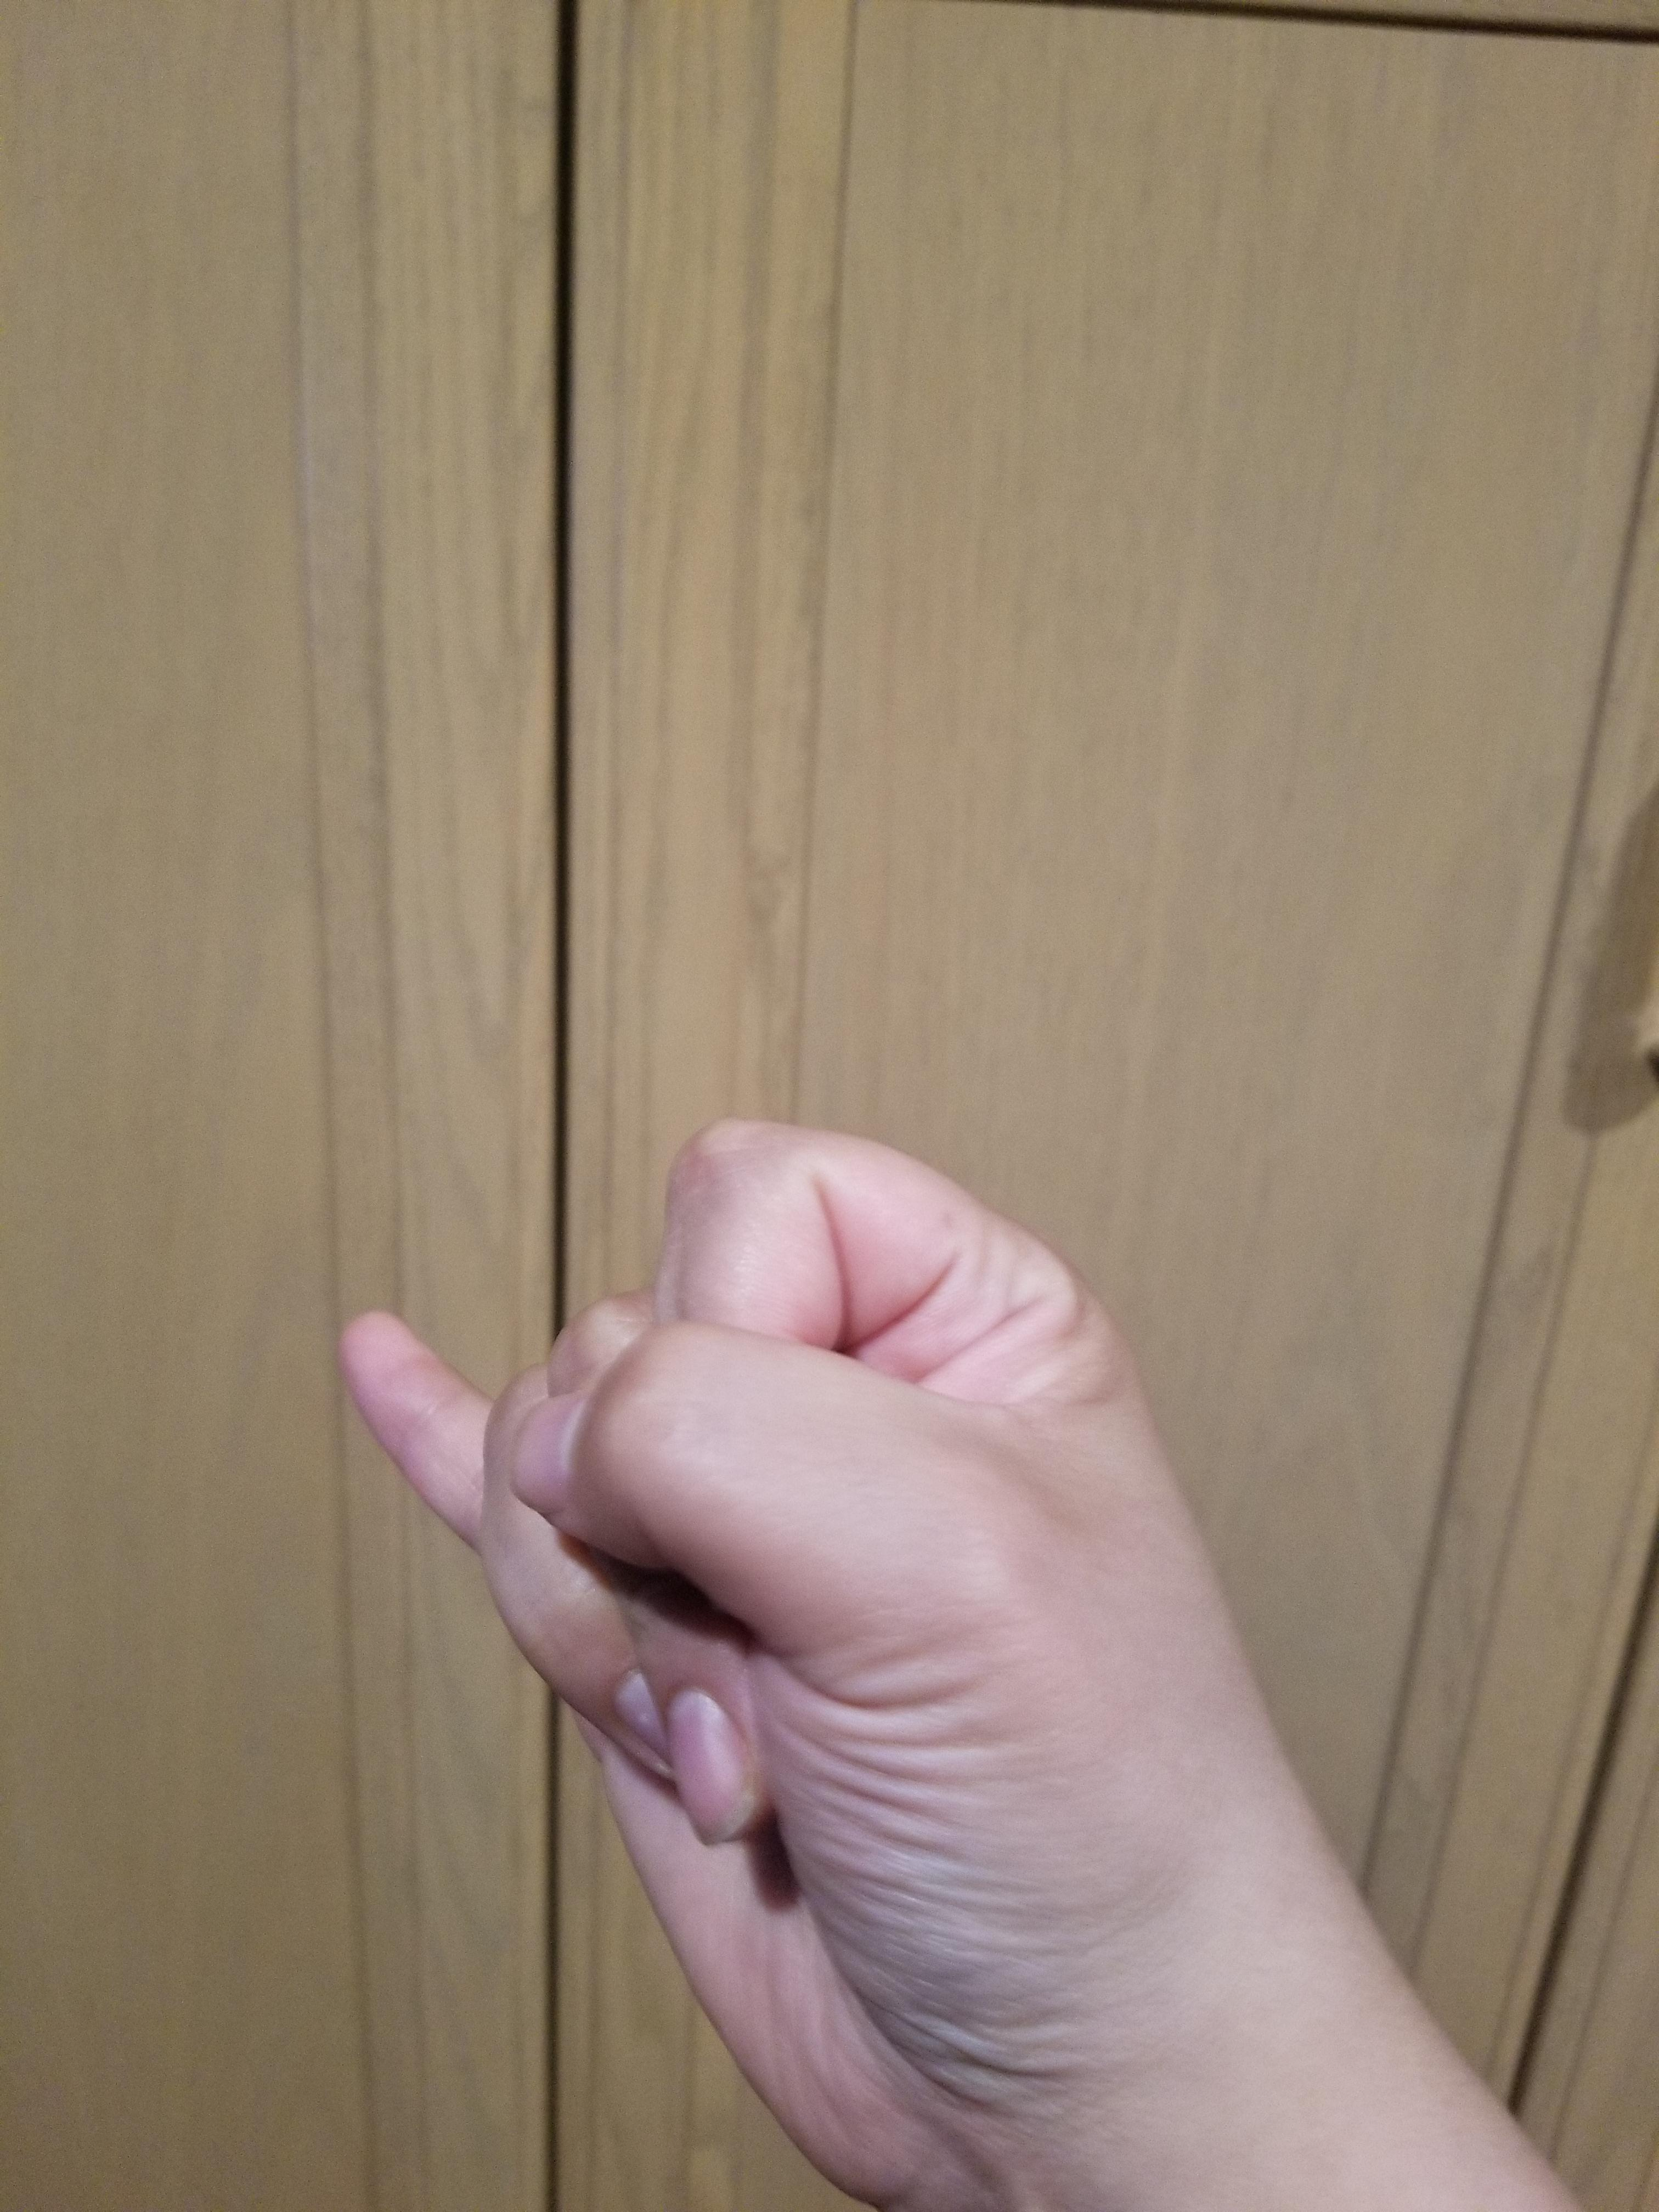J: (321, 1090, 1344, 2212)
